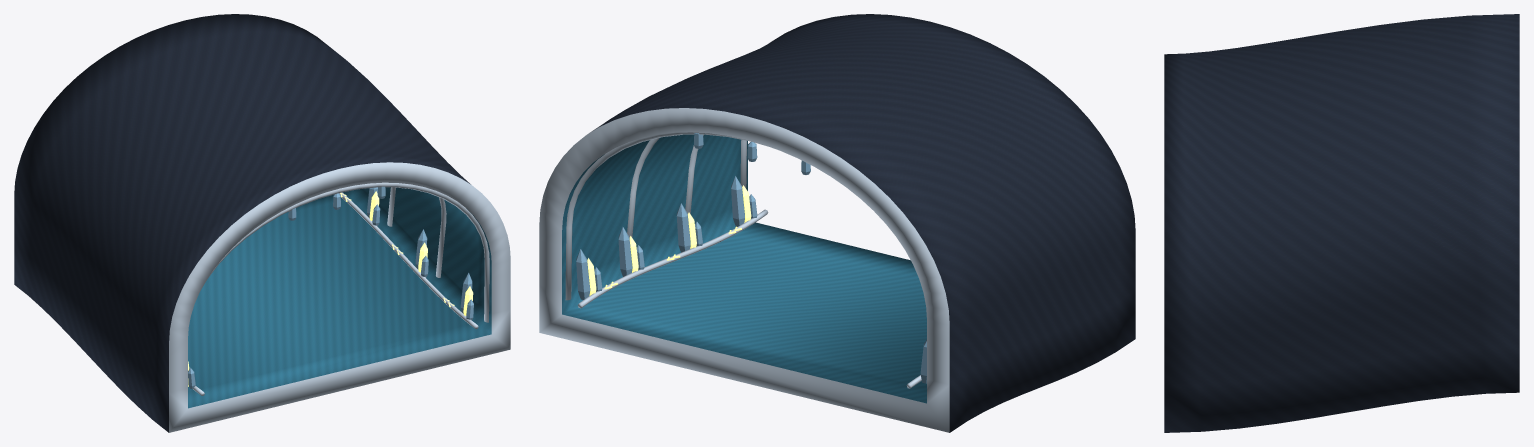
File: grade_up_lod1.glb
The picture shows the model from 3 angles, left to right: view 1: azimuth 30°, elevation 25°; view 2: azimuth 150°, elevation 25°; view 3: azimuth 270°, elevation 25°; orthographic projection. The views are drawn at different scales.
Parts seen in each view (by area): view 1: TunnelGeometry.001; view 2: TunnelGeometry.001; view 3: TunnelGeometry.001.
Part boxes in pixels (bbox=[...]): TunnelGeometry.001: bbox=[14, 14, 510, 432]; TunnelGeometry.001: bbox=[539, 14, 1135, 432]; TunnelGeometry.001: bbox=[1164, 14, 1519, 432].
Bounding box in the file's own units: 15.3 × 11.02 × 12.
5 materials, 2 textured.
